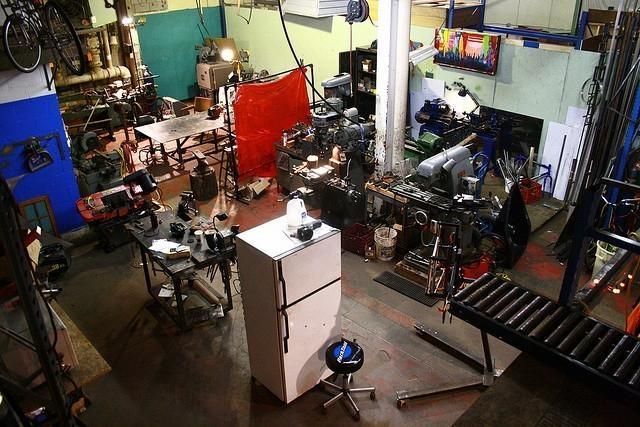bicycle: (1, 1, 88, 78)
